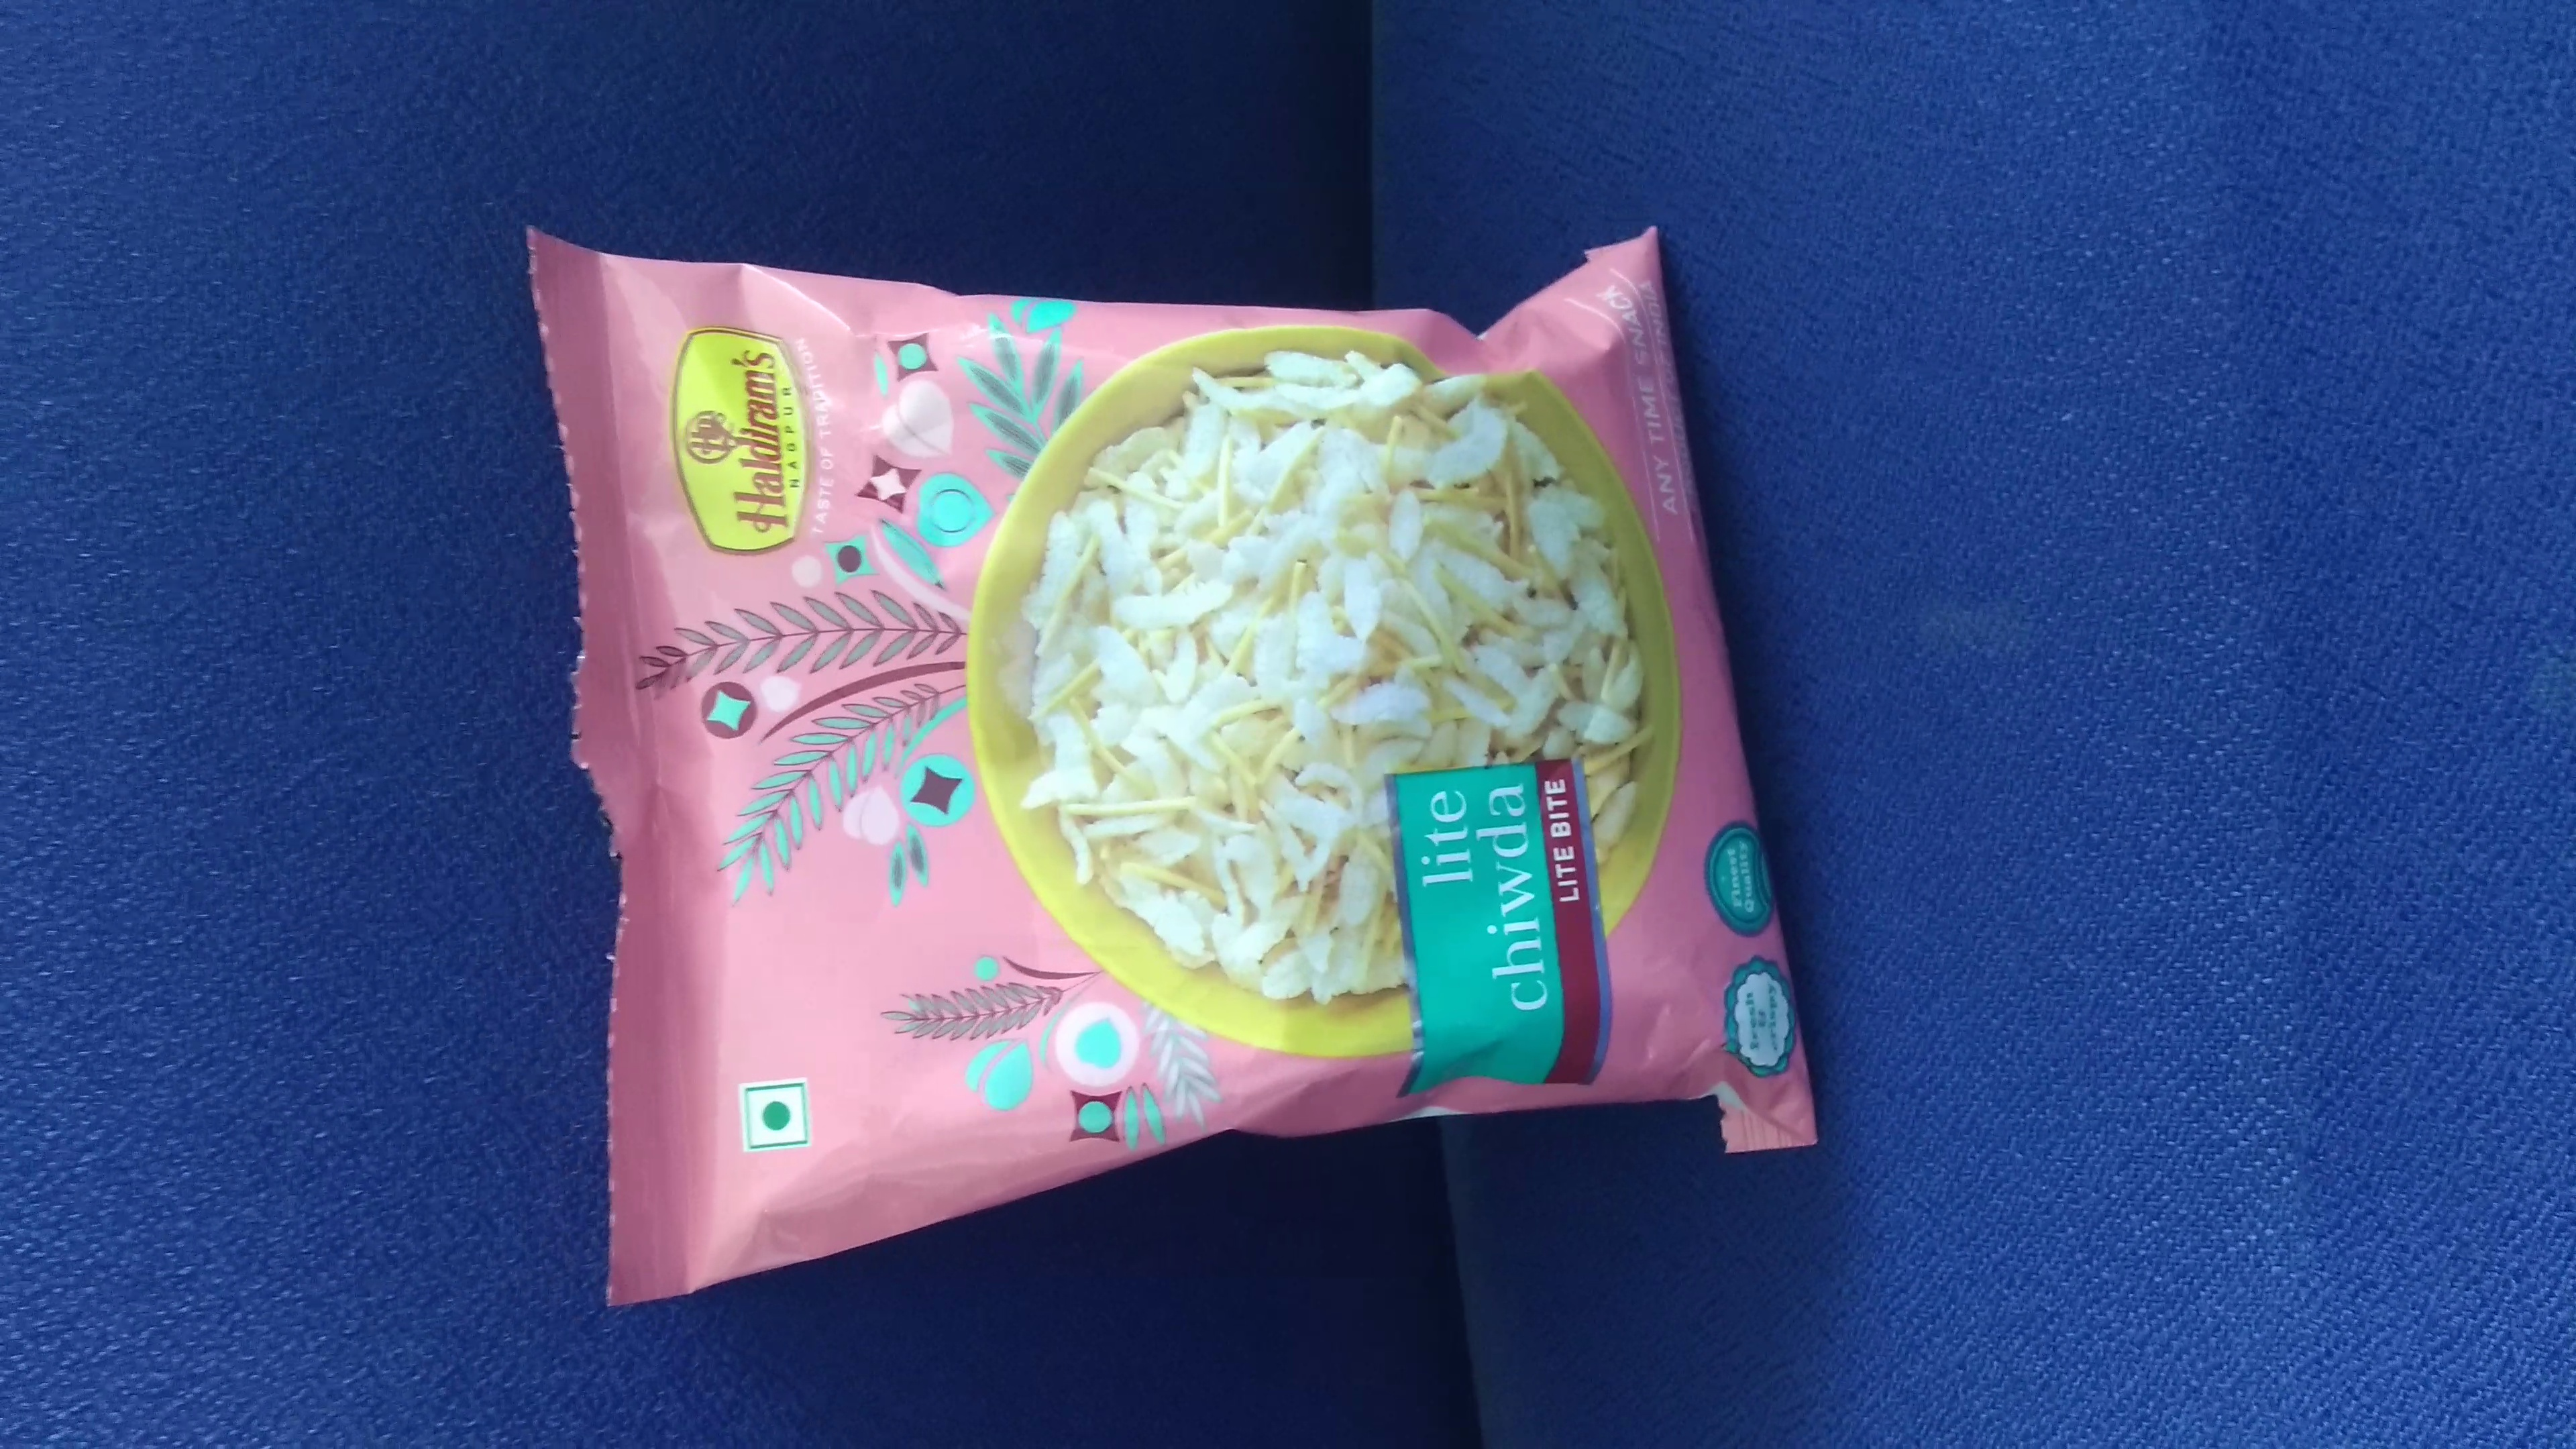liteChiwda: (506, 223, 1842, 1299)
